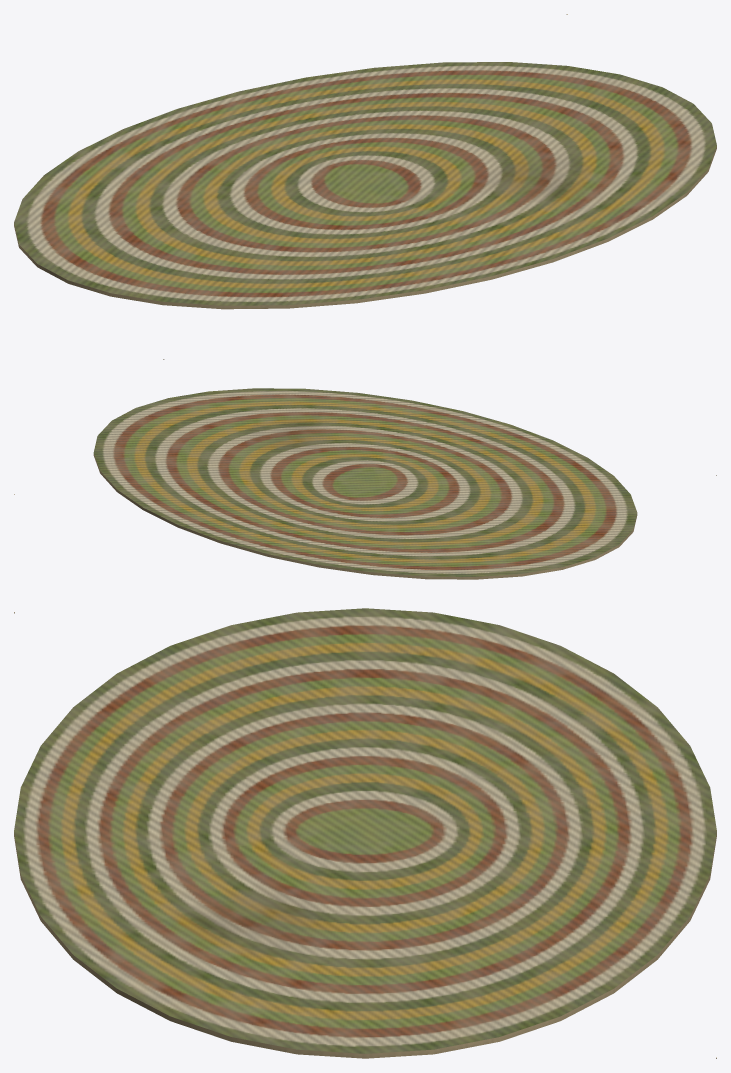
The model's file is H_Rug_Oval.fbx.
The picture shows the model from 3 angles, top to bottom: view 1: azimuth 30°, elevation 25°; view 2: azimuth 150°, elevation 25°; view 3: azimuth 270°, elevation 25°; orthographic projection. The views are drawn at different scales.
Parts seen in each view (by area): view 1: H_Rug_Oval; view 2: H_Rug_Oval; view 3: H_Rug_Oval.
Part boxes in pixels (x1,y1,x2,y2): H_Rug_Oval: [14, 14, 716, 359]; H_Rug_Oval: [14, 388, 716, 579]; H_Rug_Oval: [14, 608, 716, 1058].
Size of the model in its own units: 1200 by 6 by 800.
1 material, 1 textured.
